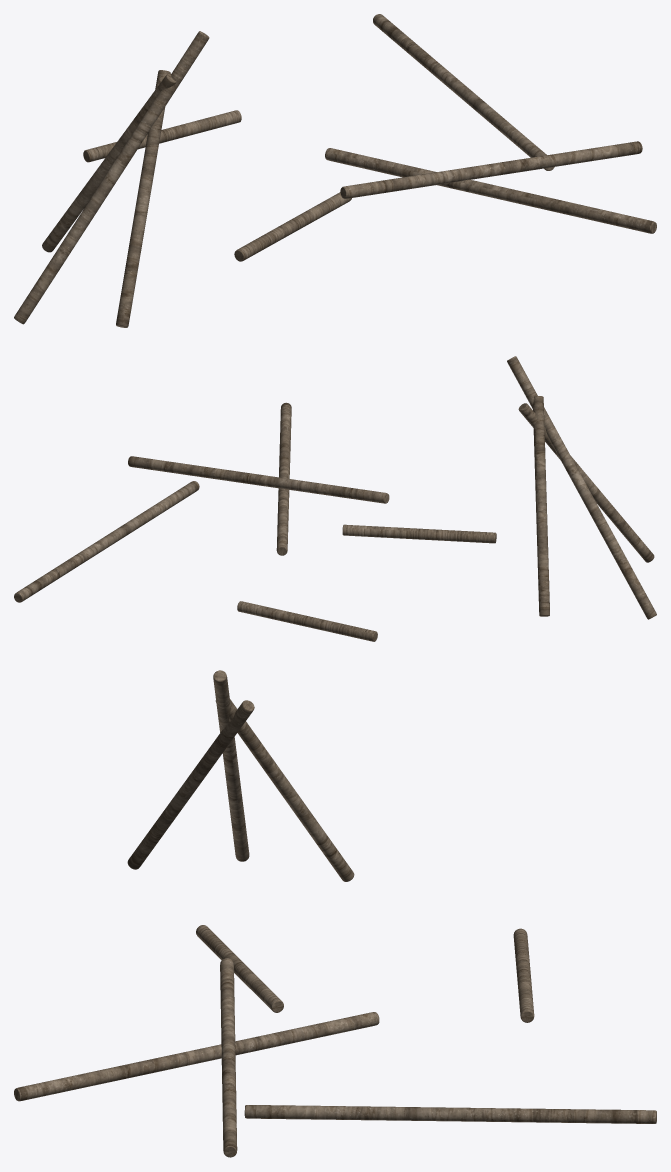
File: FirePitStandBroken.glb
The picture shows the model from 3 angles, top to bottom: view 1: azimuth 30°, elevation 25°; view 2: azimuth 150°, elevation 25°; view 3: azimuth 270°, elevation 25°; orthographic projection. The views are drawn at different scales.
Visible parts, largest first — view 1: pCylinder3, pCylinder6, pCylinder5, pCylinder1, pCylinder7, pCylinder2, pCylinder4, pCylinder8; view 2: pCylinder3, pCylinder5, pCylinder2, pCylinder7, pCylinder4, pCylinder8, pCylinder6, pCylinder1; view 3: pCylinder7, pCylinder6, pCylinder1, pCylinder5, pCylinder2, pCylinder3, pCylinder4, pCylinder8.
Part boxes in pixels (x1,y1,x2,y2): pCylinder3: [14, 31, 209, 324]; pCylinder6: [325, 148, 656, 233]; pCylinder5: [340, 141, 642, 198]; pCylinder1: [116, 70, 170, 327]; pCylinder7: [373, 14, 554, 170]; pCylinder2: [42, 73, 176, 252]; pCylinder4: [234, 192, 351, 261]; pCylinder8: [83, 110, 241, 162]; pCylinder3: [507, 356, 656, 619]; pCylinder5: [128, 456, 389, 503]; pCylinder2: [533, 396, 549, 616]; pCylinder7: [14, 481, 199, 602]; pCylinder4: [342, 524, 496, 543]; pCylinder8: [237, 601, 377, 641]; pCylinder6: [276, 402, 291, 555]; pCylinder1: [518, 403, 654, 562]; pCylinder7: [244, 1105, 656, 1123]; pCylinder6: [14, 1012, 379, 1101]; pCylinder1: [127, 700, 254, 869]; pCylinder5: [220, 958, 237, 1157]; pCylinder2: [215, 699, 354, 881]; pCylinder3: [213, 670, 249, 861]; pCylinder4: [196, 925, 283, 1012]; pCylinder8: [513, 928, 534, 1022].
Bounding box in the file's own units: 15.37 × 6.11 × 12.72.
Materials: 1 (1 with a texture image).
